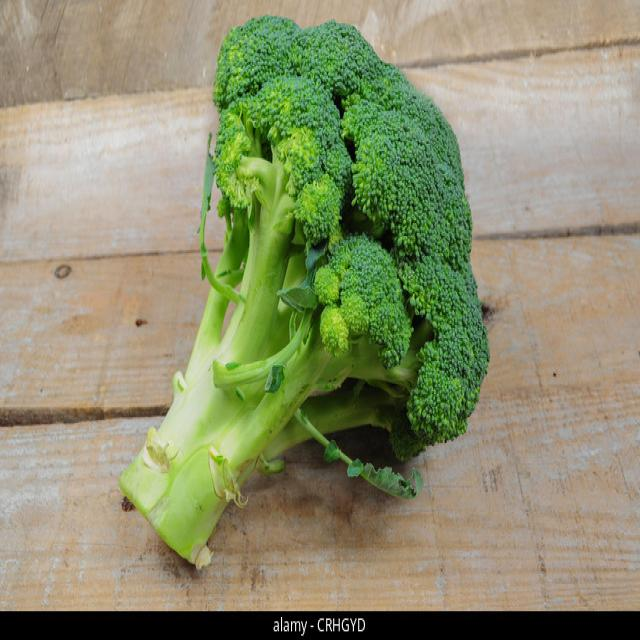broccoli: (115, 12, 491, 569)
